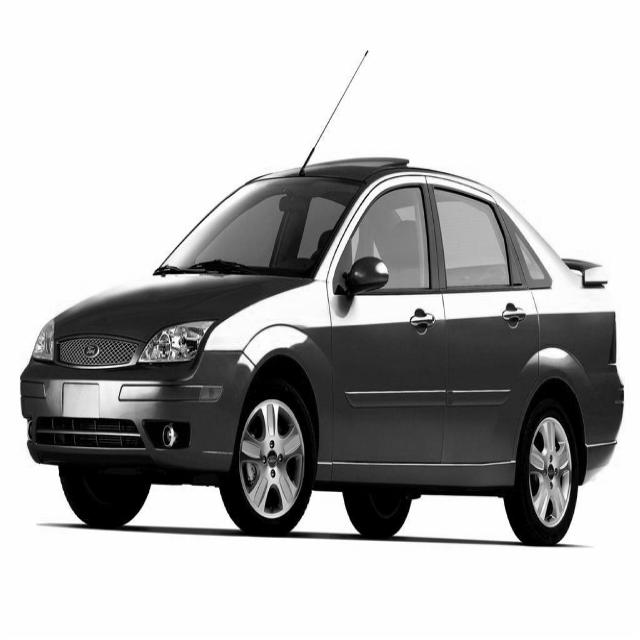car: (20, 154, 624, 545)
